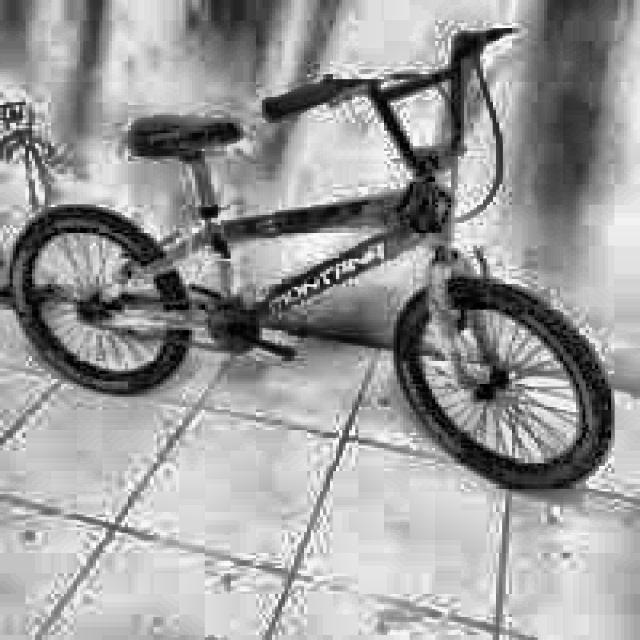bike: (7, 28, 629, 494)
